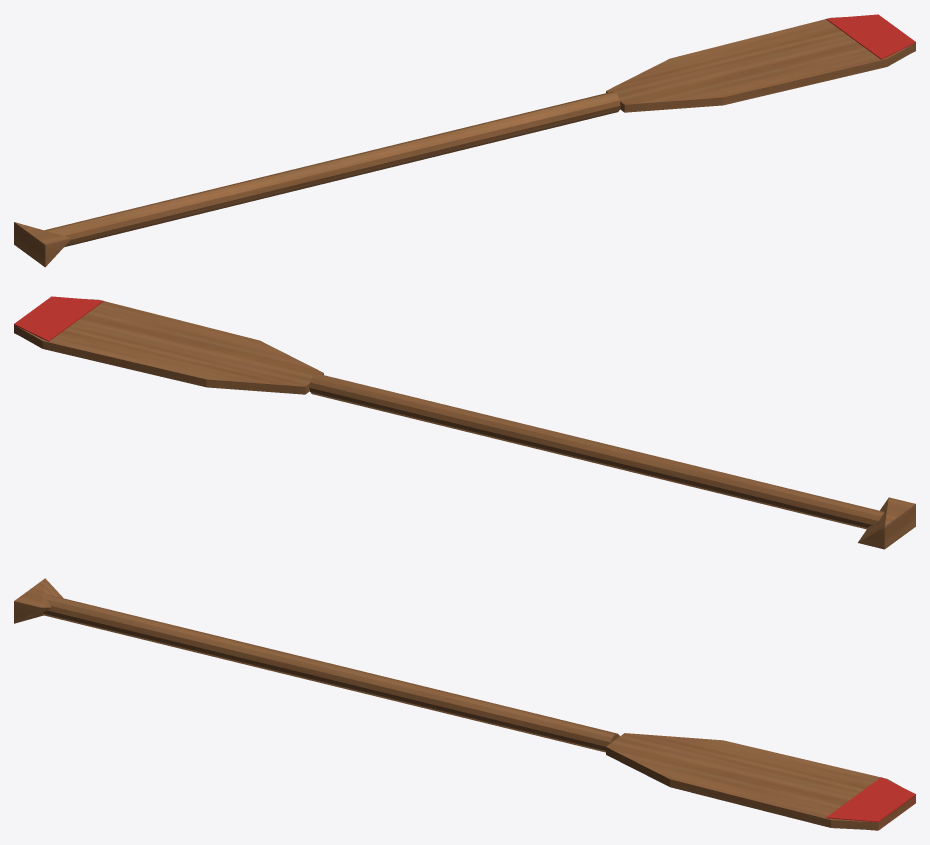
The model's file is remo.glb.
The picture shows the model from 3 angles, top to bottom: view 1: azimuth 30°, elevation 25°; view 2: azimuth 150°, elevation 25°; view 3: azimuth 330°, elevation 25°; orthographic projection.
Visible parts, largest first — view 1: remo_madeira, remo_vermelho_flag; view 2: remo_madeira, remo_vermelho_flag; view 3: remo_madeira, remo_vermelho_flag.
Boxes of the visible parts, x1,y1,x2,y2 form: remo_madeira: (14,17,915,267); remo_vermelho_flag: (826,14,915,59); remo_madeira: (14,299,915,549); remo_vermelho_flag: (14,296,103,341); remo_madeira: (14,578,915,830); remo_vermelho_flag: (826,777,915,830).
Size of the model in its own units: 1.6 by 0.04 by 0.18.
Materials: 2 (1 with a texture image).
